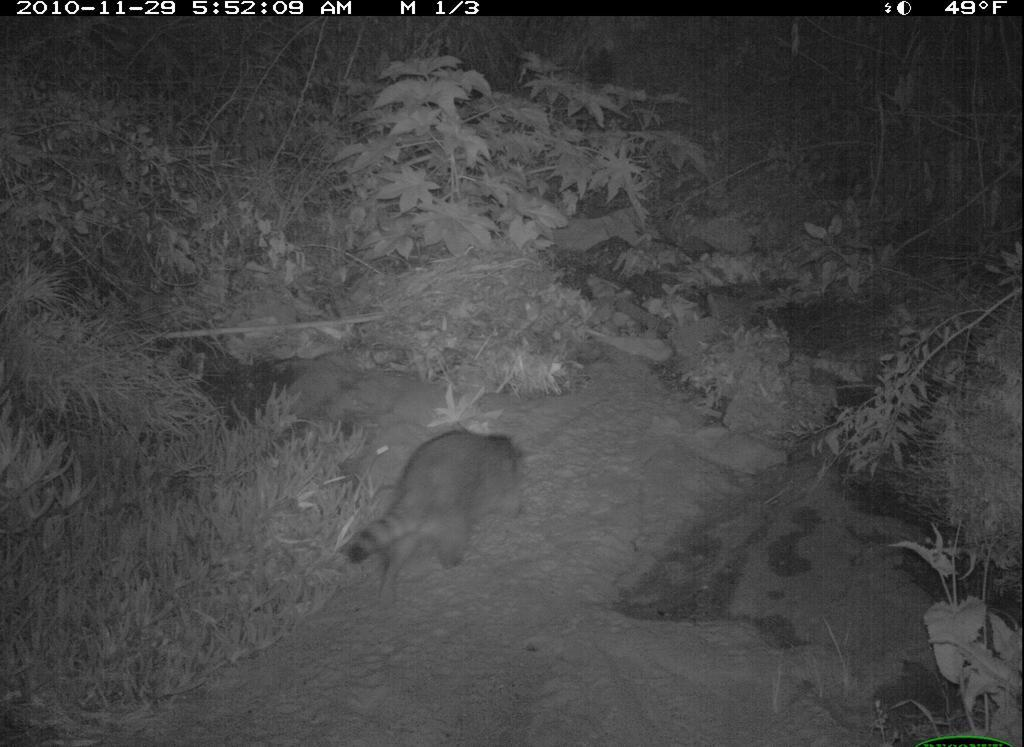raccoon: (341, 423, 534, 596)
